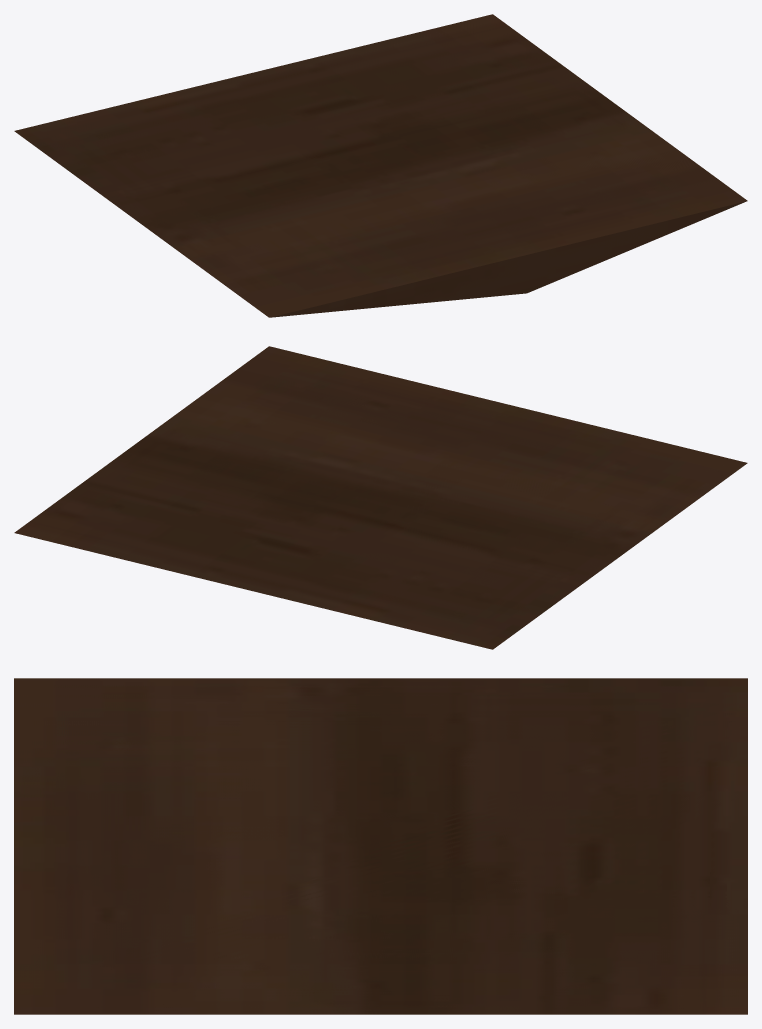
The model's file is link_8__top_panel-26.glb.
The picture shows the model from 3 angles, top to bottom: view 1: azimuth 30°, elevation 25°; view 2: azimuth 150°, elevation 25°; view 3: azimuth 270°, elevation 25°; orthographic projection. The views are drawn at different scales.
Visible parts, largest first — view 1: geometry_0; view 2: geometry_0; view 3: geometry_0.
Part boxes in pixels (<box>): geometry_0: <box>14,14,747,317</box>; geometry_0: <box>14,346,747,649</box>; geometry_0: <box>14,678,747,1014</box>.
Bounding box in the file's own units: 0.1365 × 0.0105 × 0.126.
Materials: 1 (1 with a texture image).
